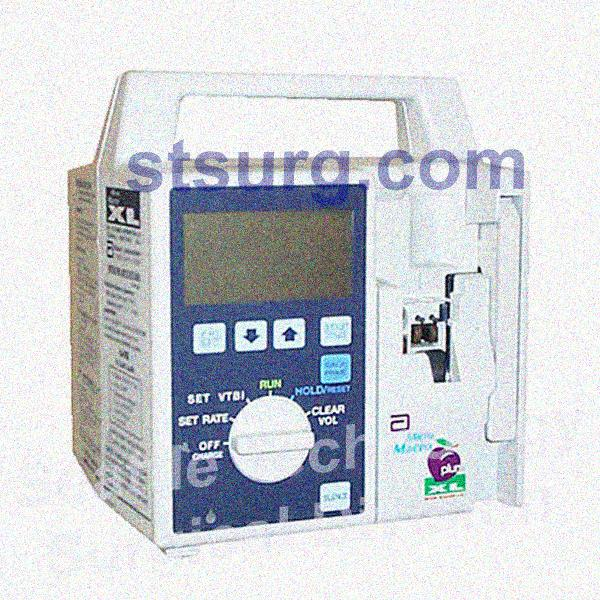plumxl1: (67, 58, 548, 539)
